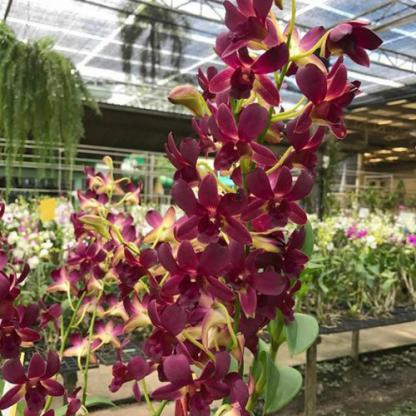ANGGREK: (135, 24, 390, 399)
